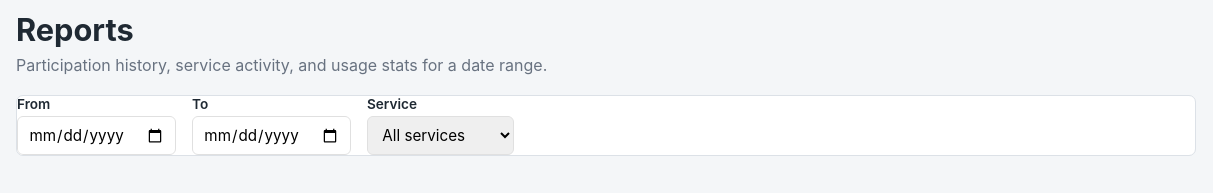
Test: admin reports › shows the backend error message when the date filter is invalid
Click the button "Generate report": point(609, 136) [530,116,687,155]
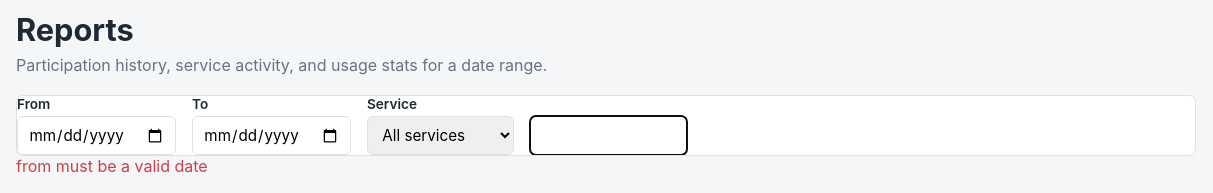
Expected: the message reads "from must be a valid date", [16,156,208,176]
